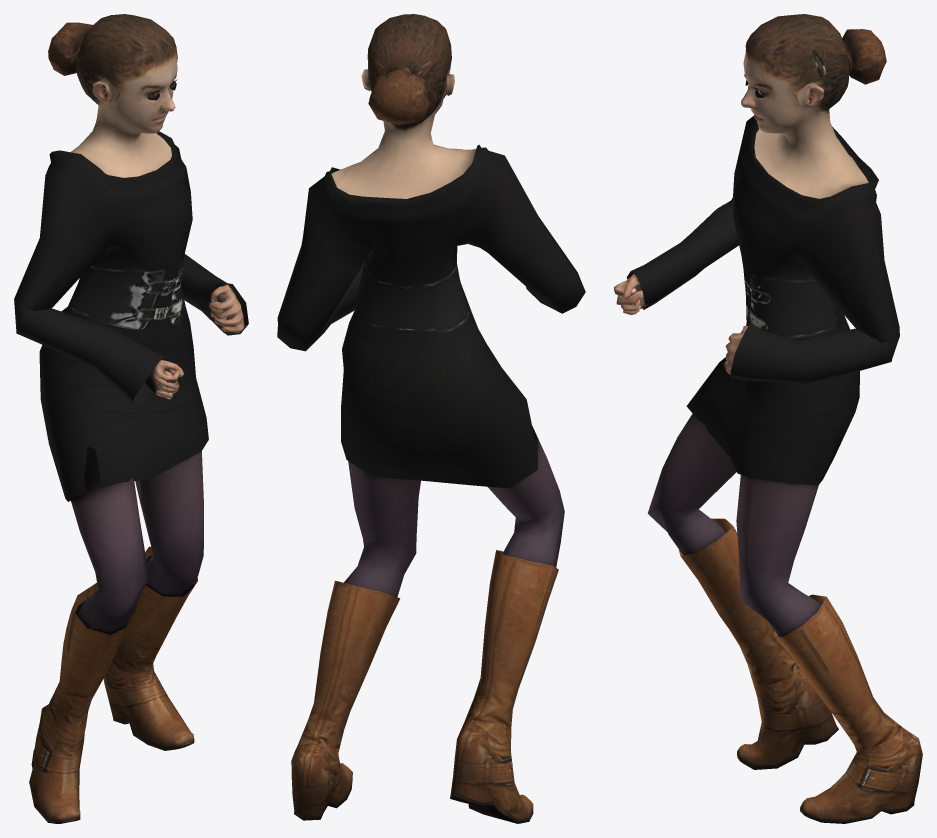
File: Ana_Model_000026.obj
3 renders of one model, left to right at view 1: azimuth 30°, elevation 25°; view 2: azimuth 150°, elevation 25°; view 3: azimuth 270°, elevation 25°, orthographic. The views are drawn at different scales.
Parts seen in each view (by area): view 1: Ana_Cube.004; view 2: Ana_Cube.004; view 3: Ana_Cube.004.
Part boxes in pixels (x1,y1,x2,y2): Ana_Cube.004: (14, 14, 248, 823); Ana_Cube.004: (277, 14, 585, 823); Ana_Cube.004: (614, 14, 922, 823).
Bounding box in the file's own units: 0.6138 × 1.89 × 0.6723.
1 material, 1 textured.
